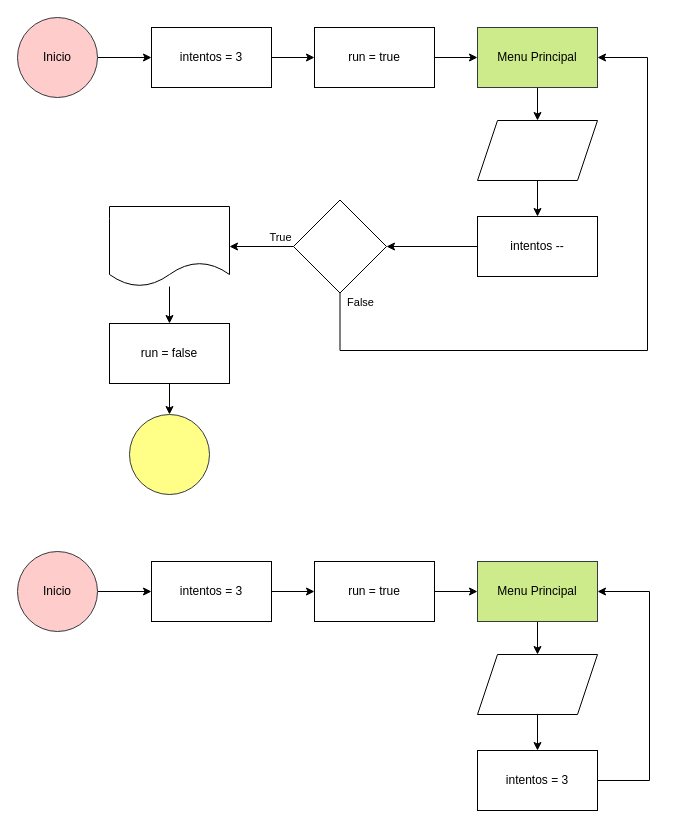
Some shapes in this 675 by 828 pixel diagram are drawn without their labels. The shapes that lost their labels are listed below. From the top down, each one's centre as x and y in pixels, then its label:
At (537,150): "Opción Invalida".
At (169,246): "Cerrando programa".
At (339,246): "intentos == 0".
At (169,454): "Fin".
At (537,684): "Opción Valida".
